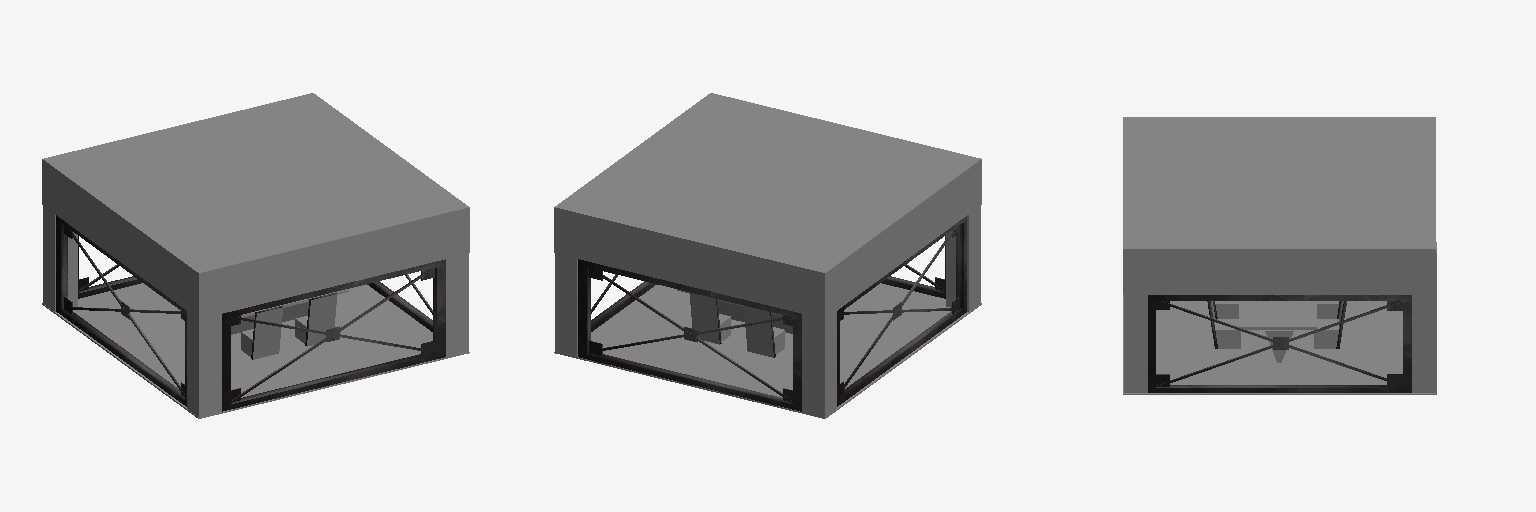
3 renders of one model, left to right at view 1: azimuth 30°, elevation 25°; view 2: azimuth 150°, elevation 25°; view 3: azimuth 270°, elevation 25°, orthographic.
Parts seen in each view (by area): view 1: Box007, Box001, Box012, Box015, Box004, Box005, Box003, Box019, Box021, Box014, Box013, Box017; view 2: Box007, Box001, Box013, Box003, Box015, Box006, Box004, Box025, Box023, Box014, Box012, Box017; view 3: Box007, Box001, Box014, Box006, Box005, Box016, Box020, Box022.
Part boxes in pixels (x1,y1,x2,y2): Box007: (42, 93, 469, 318); Box001: (42, 283, 469, 418); Box012: (222, 259, 445, 411); Box015: (56, 215, 186, 406); Box004: (187, 311, 221, 417); Box005: (446, 254, 468, 356); Box003: (43, 206, 77, 311); Box019: (251, 306, 282, 359); Box021: (305, 293, 336, 346); Box014: (367, 274, 432, 331); Box013: (78, 236, 141, 298); Box017: (231, 302, 308, 334); Box007: (554, 93, 981, 318); Box001: (554, 283, 981, 418); Box013: (578, 259, 801, 411); Box003: (802, 272, 836, 418); Box015: (837, 216, 966, 406); Box006: (555, 212, 577, 358); Box004: (946, 206, 980, 311); Box025: (744, 306, 775, 357); Box023: (689, 292, 721, 344); Box014: (591, 274, 656, 331); Box012: (882, 236, 945, 298); Box017: (718, 301, 792, 333); Box007: (1123, 117, 1435, 294); Box001: (1123, 295, 1435, 394); Box014: (1148, 295, 1411, 392); Box006: (1412, 242, 1436, 394); Box005: (1124, 295, 1147, 392); Box016: (1239, 301, 1316, 329); Box020: (1215, 319, 1240, 348); Box022: (1314, 319, 1338, 348).
Bounding box in the file's own units: 40 × 20.58 × 40.02.
3 materials, 1 textured.